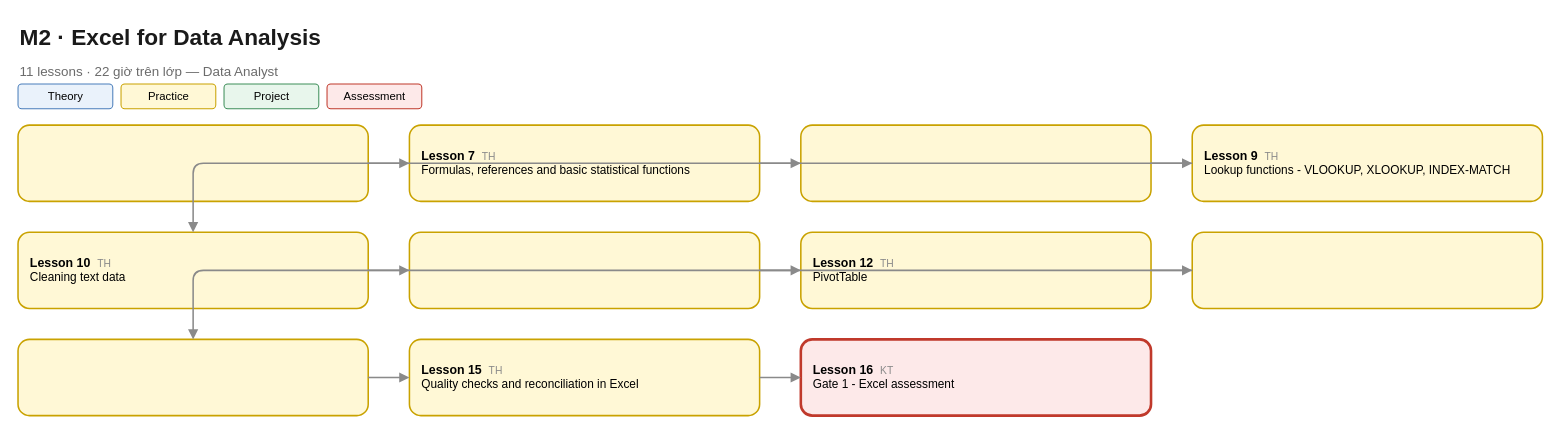
This 1561x435 diagram has some shape labels left out. Each missing label, with the centre of its shape:
"Lesson 11 TH Working with dates and time" goes at point (584, 270).
"Lesson 13 TH Charts in Excel" goes at point (1367, 270).
"Lesson 14 TH Power Query - ETL inside Excel" goes at point (193, 377).
"Lesson 6 TH Structuring data correctly in Excel" goes at point (193, 163).
"Lesson 8 TH Logic and conditional functions" goes at point (975, 163).
